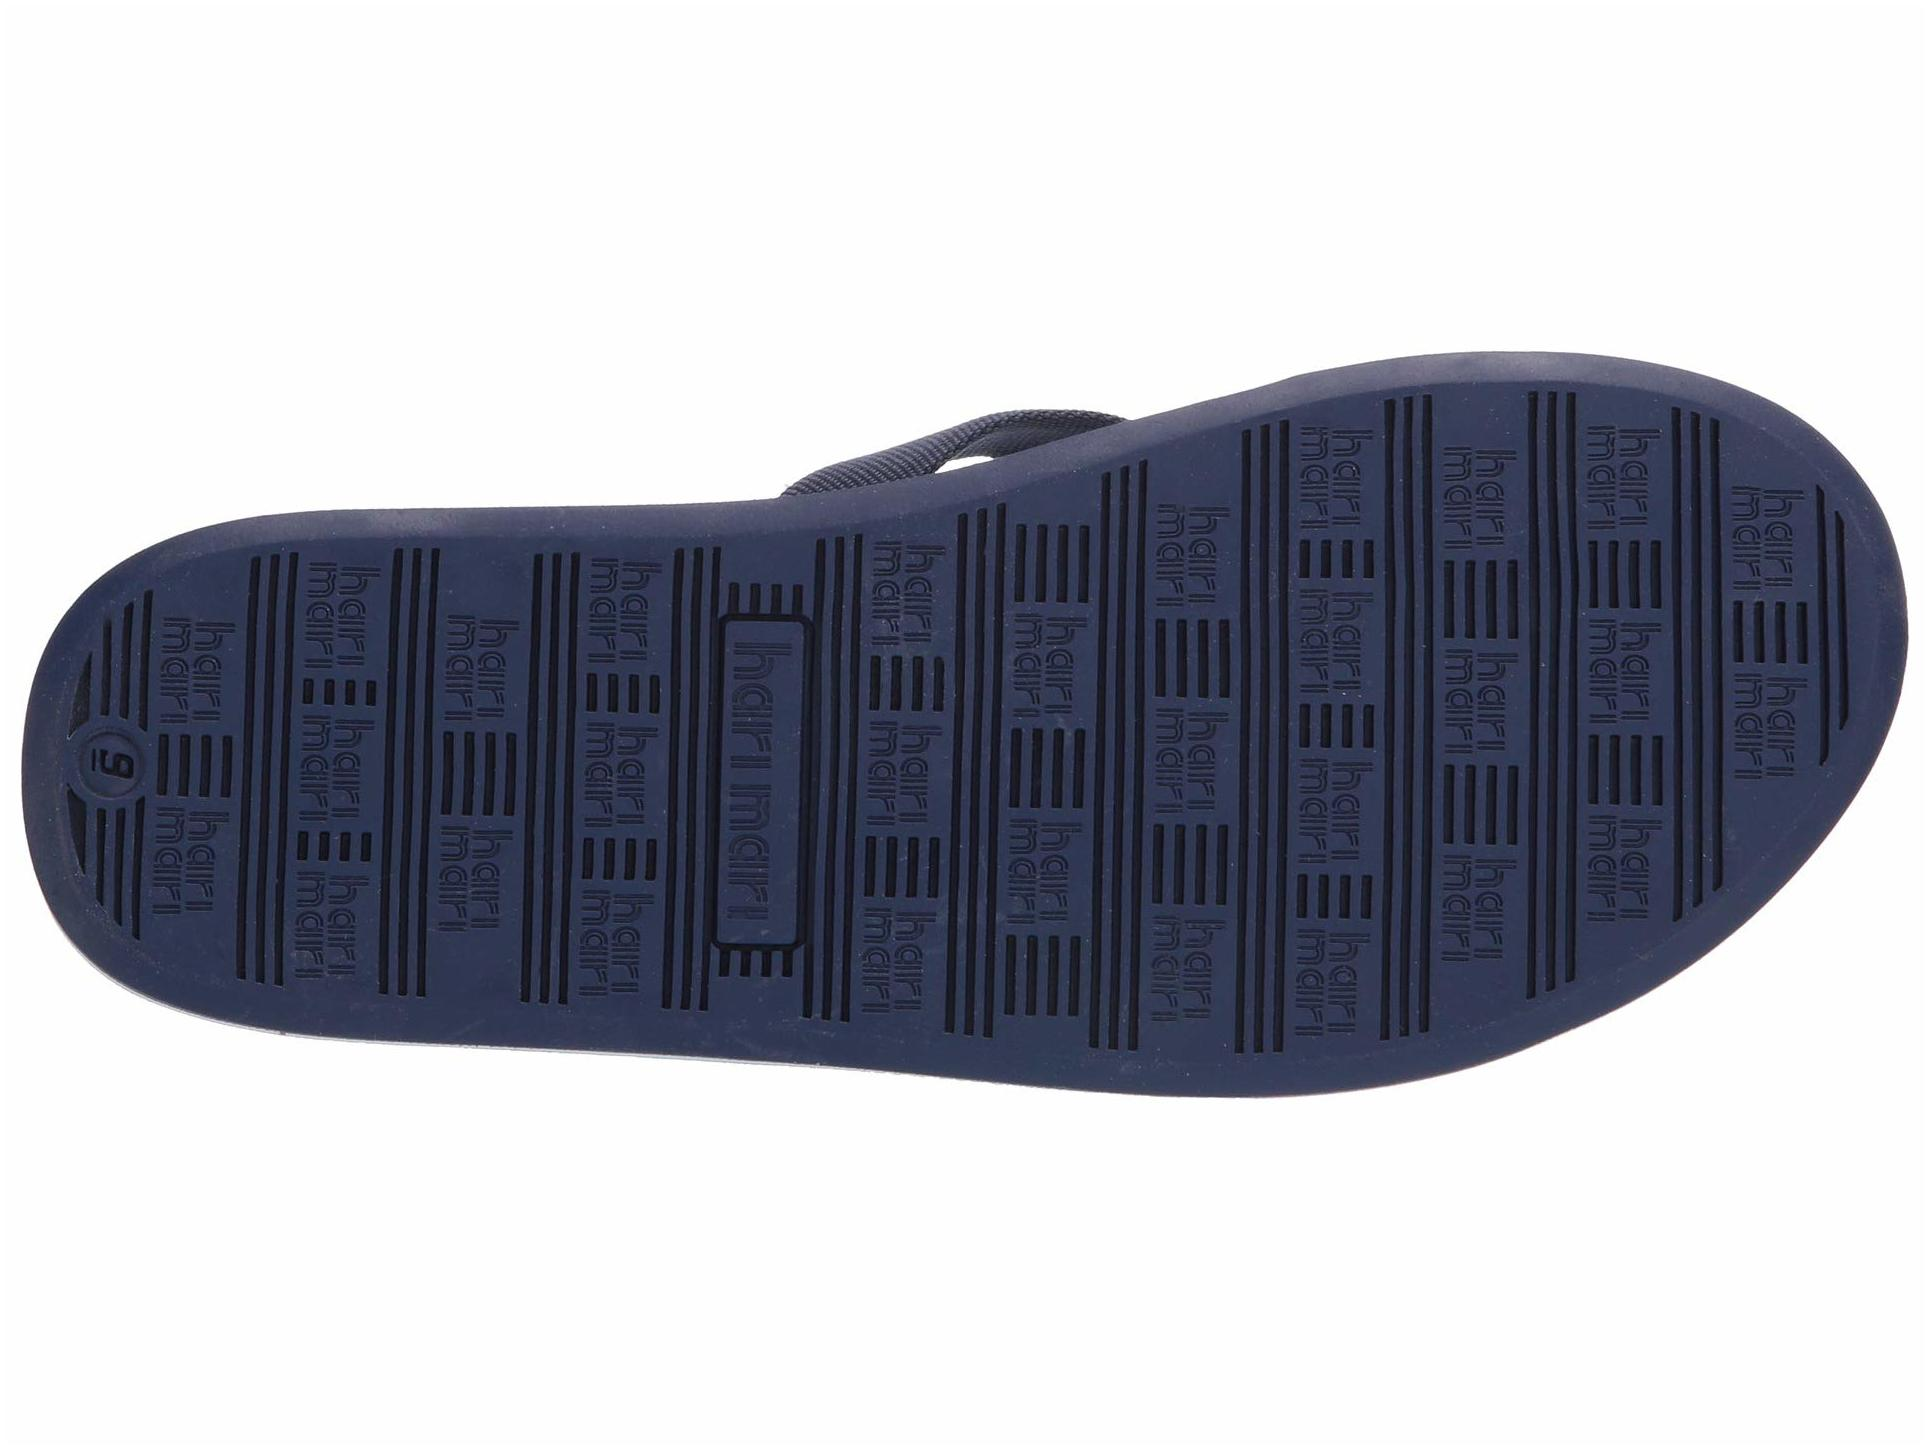circle: (47, 681, 292, 917)
line: (623, 576, 1315, 1062), (1371, 420, 1842, 899), (47, 681, 292, 917)
quad: (623, 576, 1315, 1062), (1371, 420, 1842, 899), (47, 681, 292, 917)
text: (623, 576, 1315, 1062), (1371, 420, 1842, 899), (47, 681, 292, 917)
